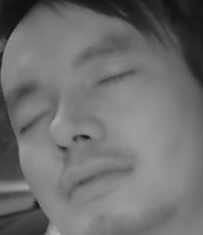blink: (17, 108, 55, 135), (97, 65, 137, 90)
mouth: (53, 155, 133, 205)
